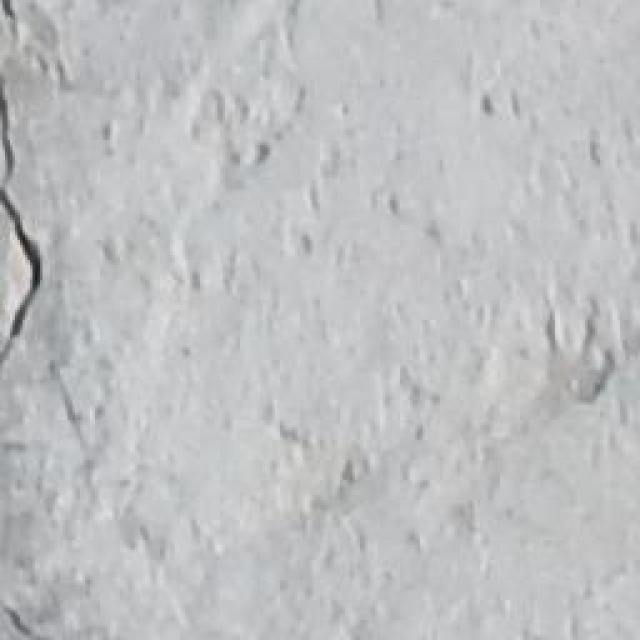concrete-crack: (0, 79, 53, 373)
